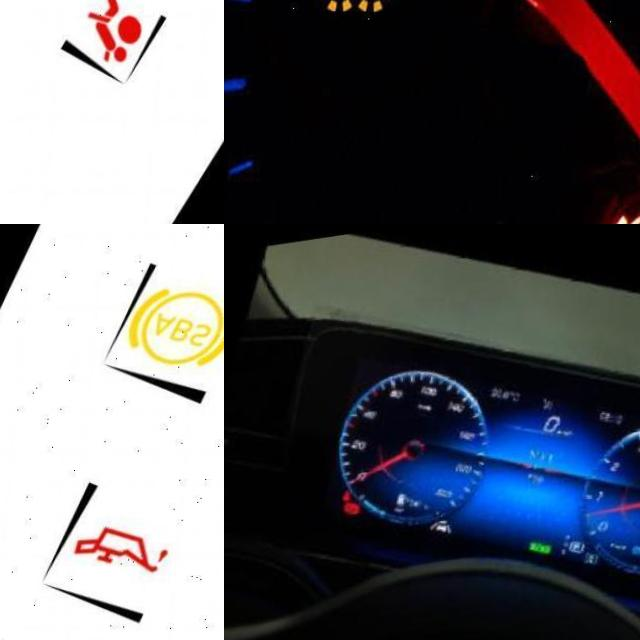Low fuel level: (396, 493, 412, 509)
